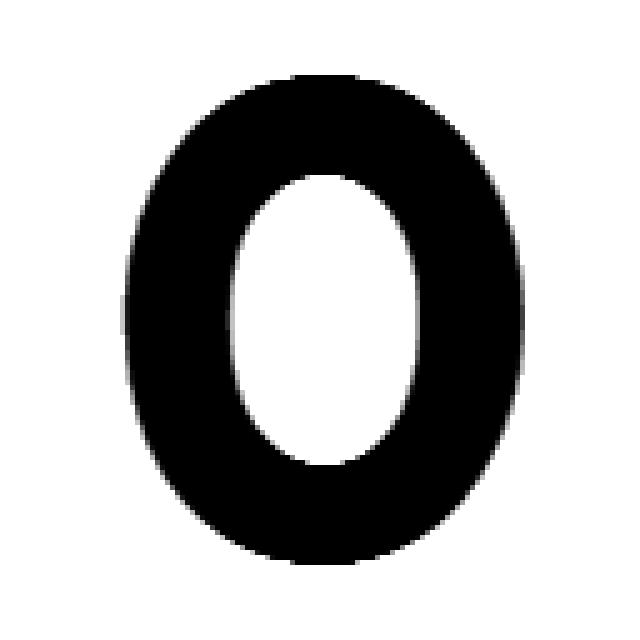O: (125, 75, 525, 570)
